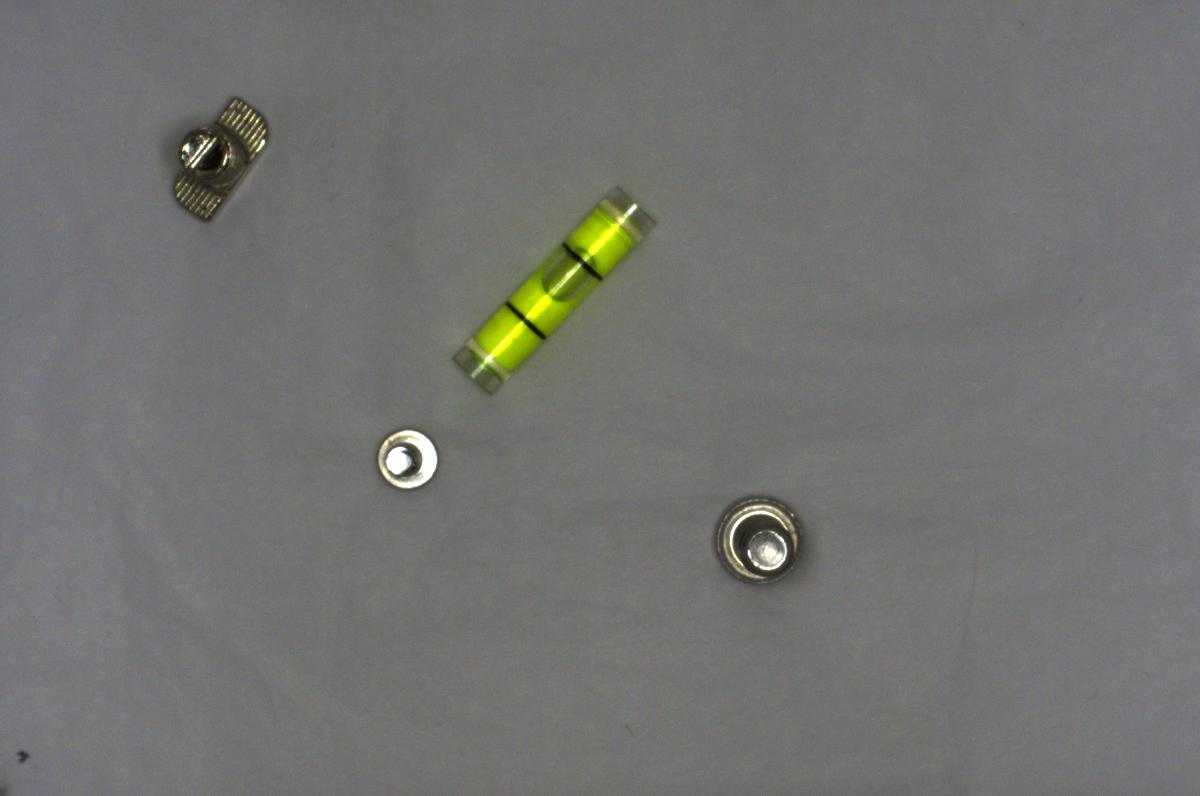Hexagon screw: (702, 479, 813, 599)
Horizontal bubble: (450, 178, 658, 396)
Round head screw: (360, 422, 448, 495)
T-shaped screw: (167, 95, 271, 220)
